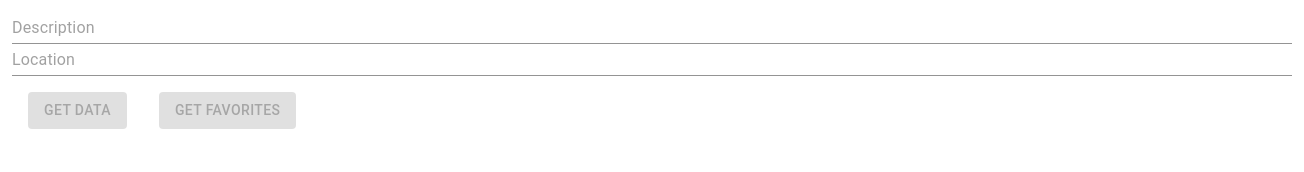
Test: Search Component Testing › Element interaction tests › Search button availability based on filter
Check: the button "Get data" is disabled, box [28,92,127,128]
In the field with placeholder "Description": (652, 28) [12,12,1292,44], type "js"
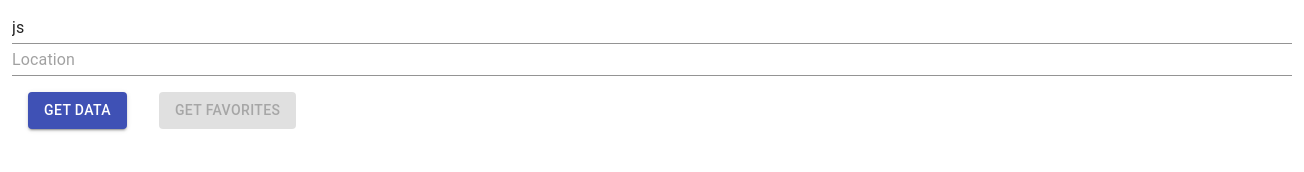
In the field with placeholder "Location": (652, 60) [12,44,1292,76], type "moscow"
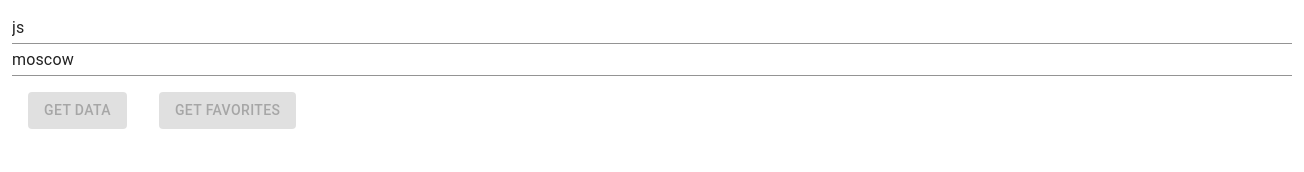
Check: the button "Get data" is disabled, box [28,92,127,128]
Replace the text in the 1st field with "python": (652, 28) [12,12,1292,44]
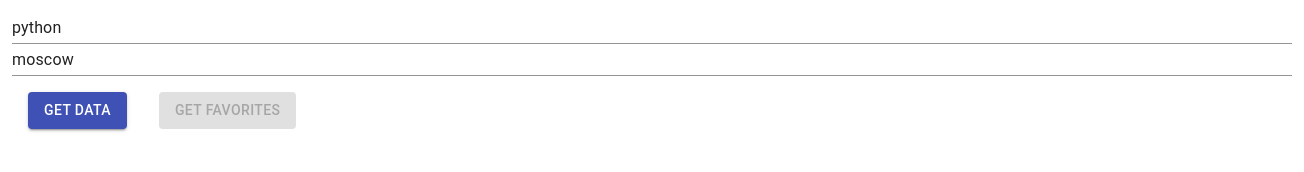
Check: the button "Get data" is enabled, box [28,92,127,128]
